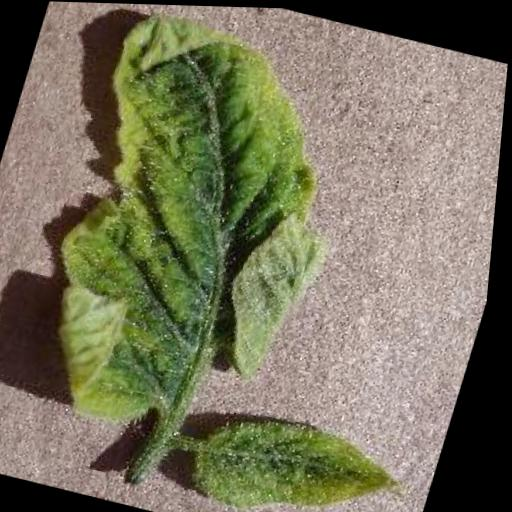Yellow Leaf Curl Virus: (16, 1, 385, 462), (187, 395, 422, 512)
